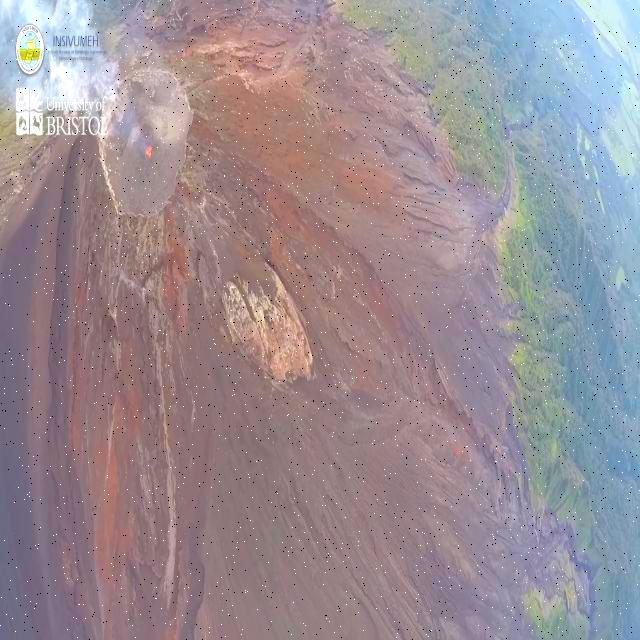Plume: (0, 0, 127, 122)
Summit: (94, 64, 200, 228)
